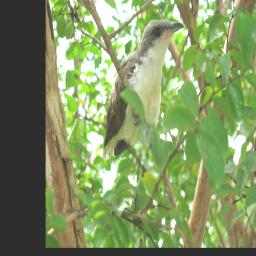Cuckoo: (102, 17, 183, 164)
